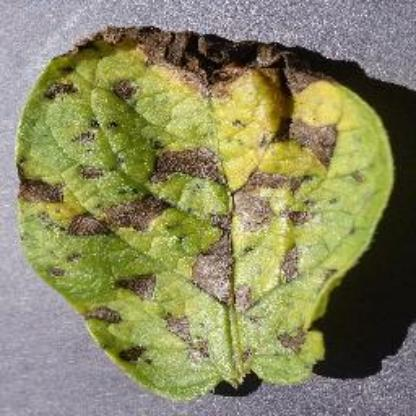Early-Blight: (13, 21, 393, 401)
